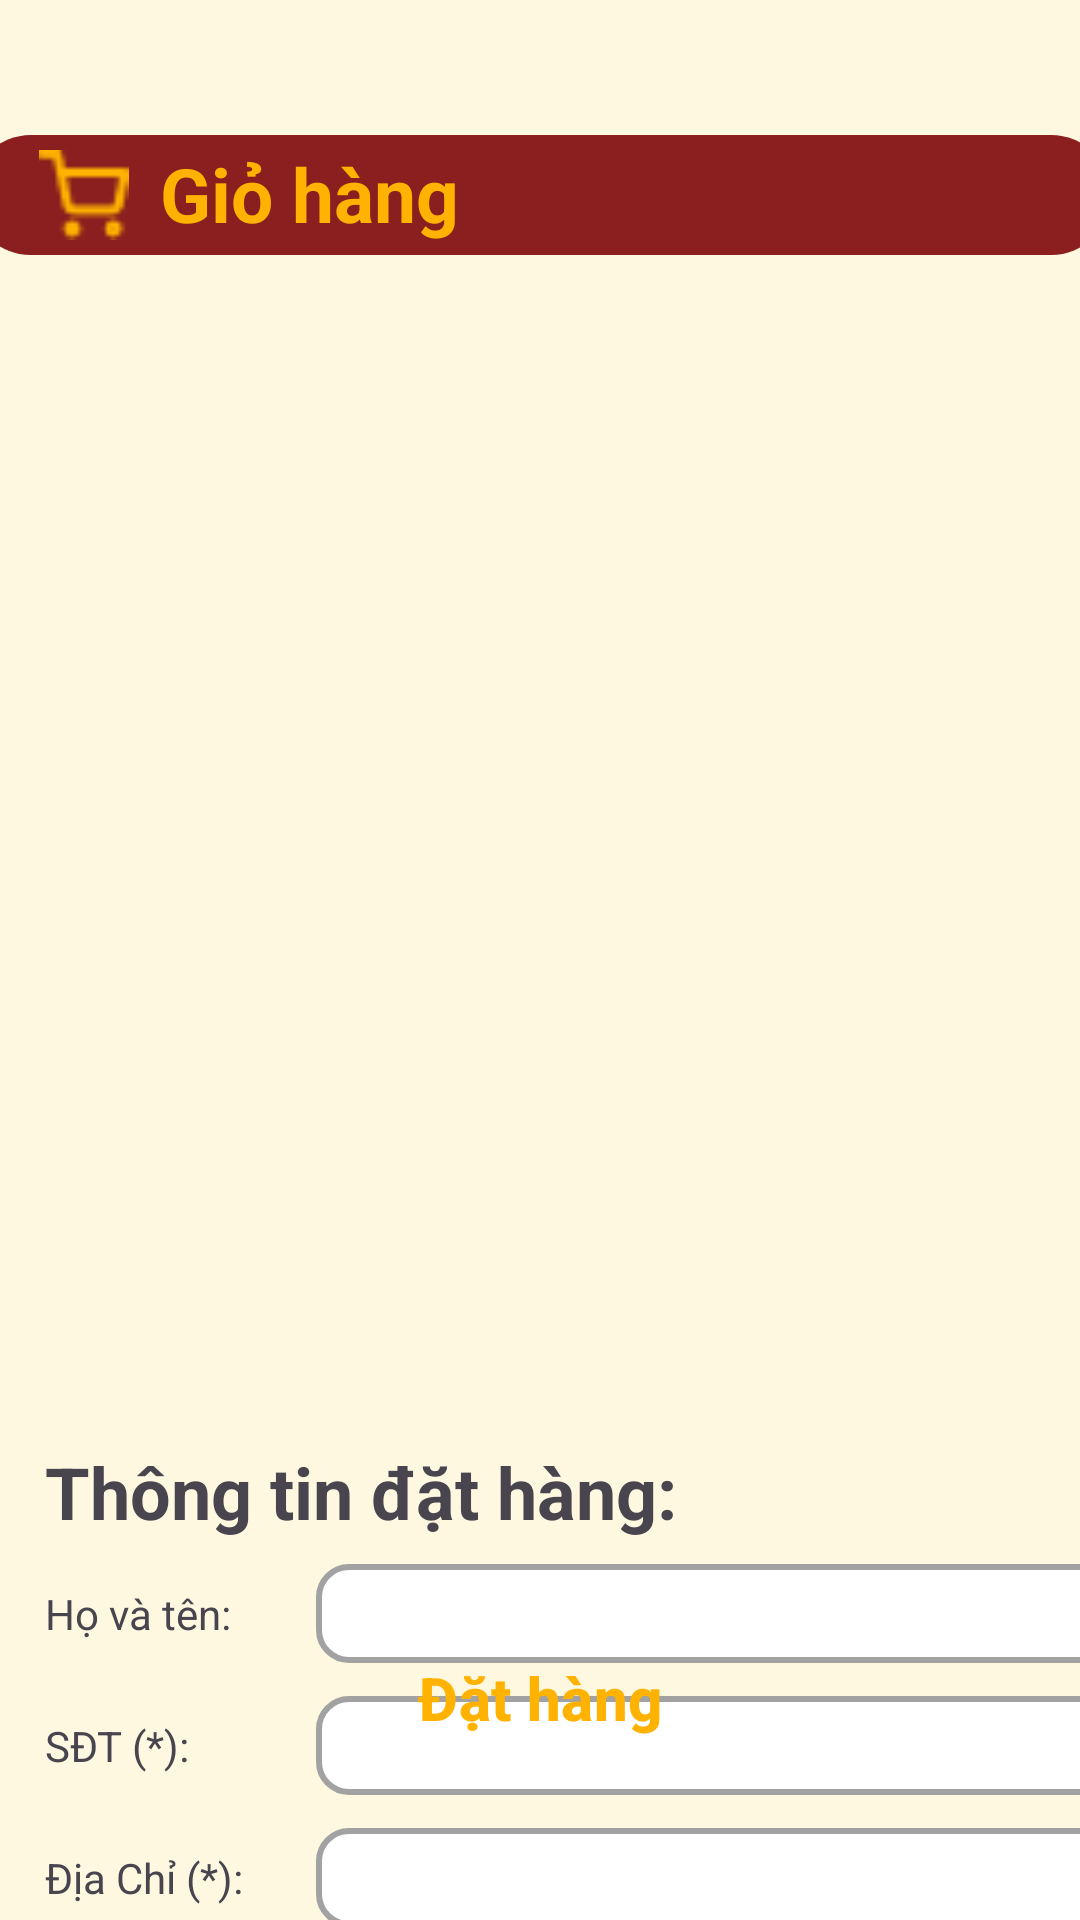

Icon click points for this 1080x1920 phone screenshot, format (x=x, y=y):
shoppingcart: (x=84, y=195)
